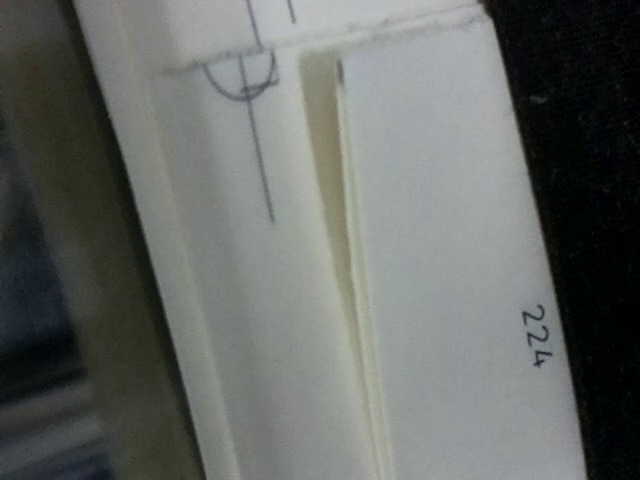aligned: (158, 1, 288, 112)
